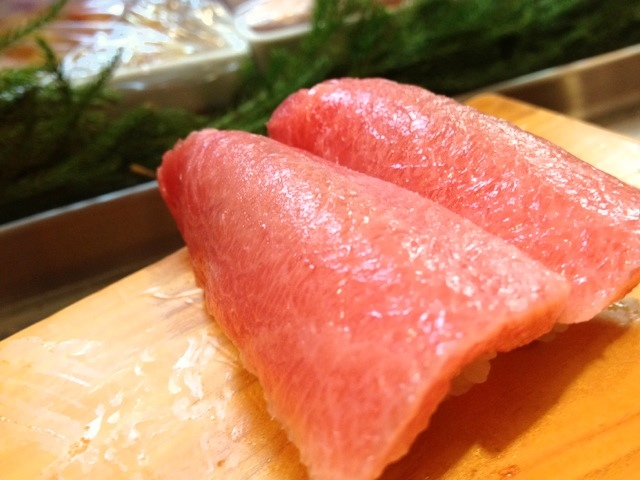medium_fatty_tuna: (172, 152, 504, 427)
